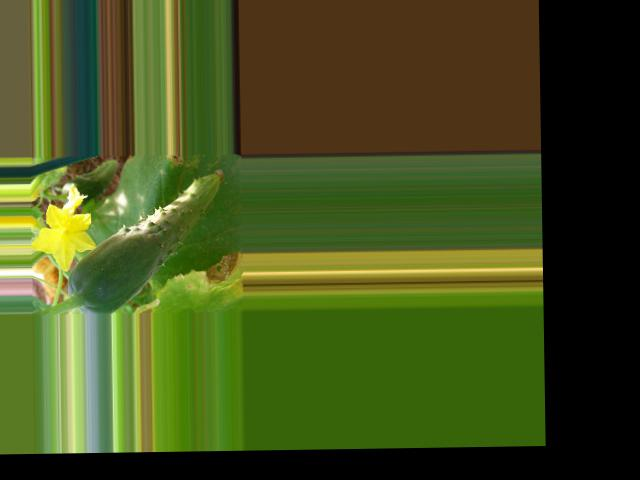cucumber: (65, 168, 225, 314)
